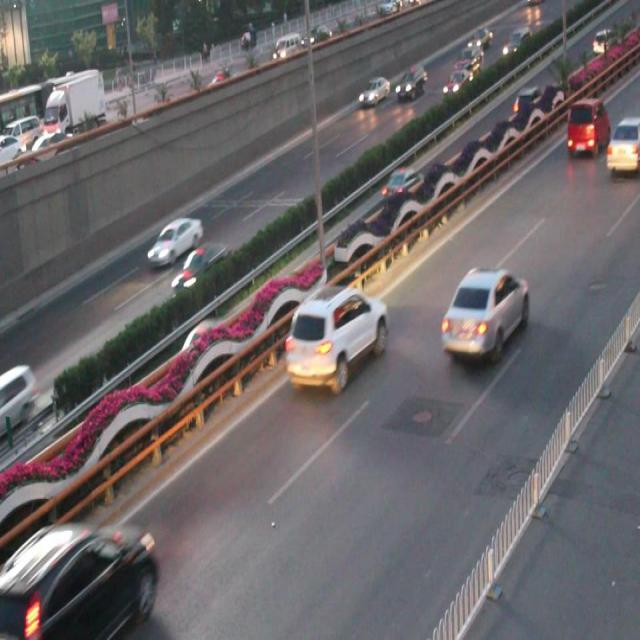car: (0, 516, 158, 640), (286, 284, 390, 393), (439, 262, 531, 360), (0, 359, 40, 436), (169, 244, 232, 289), (146, 216, 203, 262), (564, 100, 608, 154), (180, 313, 224, 367), (603, 119, 640, 174), (379, 164, 422, 202), (440, 63, 478, 101), (392, 64, 429, 102), (356, 76, 391, 108), (509, 82, 540, 115)
